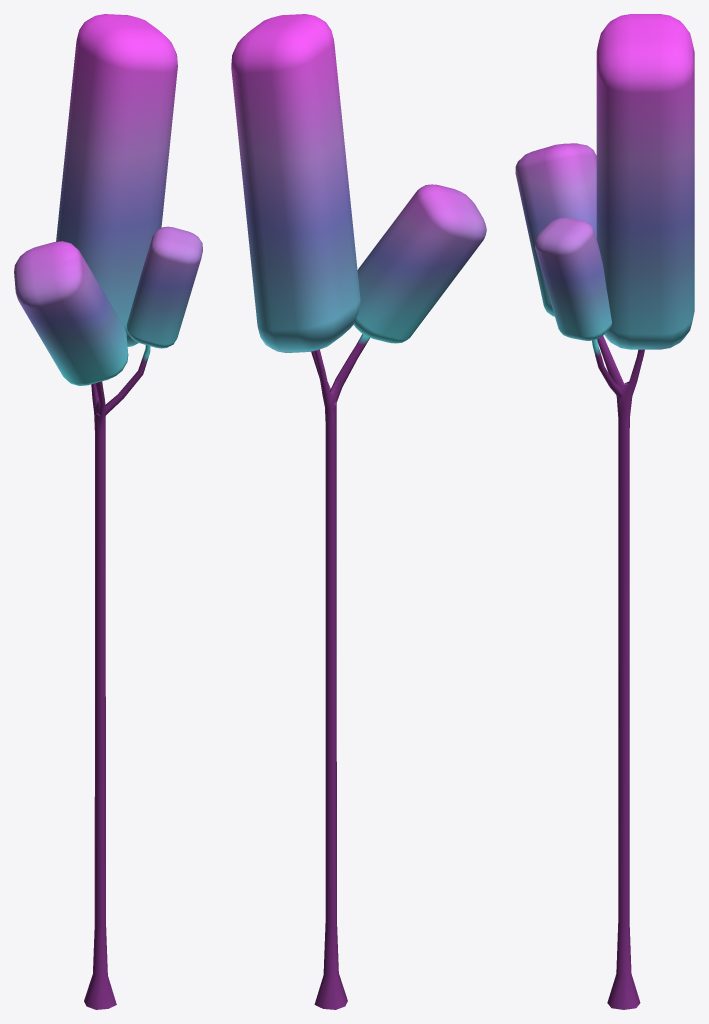
File: Tree09.fbx
3 renders of one model, left to right at view 1: azimuth 30°, elevation 25°; view 2: azimuth 150°, elevation 25°; view 3: azimuth 270°, elevation 25°, orthographic. The views are drawn at different scales.
Visible parts, largest first — view 1: Tree09; view 2: Tree09; view 3: Tree09.
Boxes of the visible parts, x1,y1,x2,y2 form: Tree09: [14, 14, 202, 1009]; Tree09: [231, 14, 486, 1009]; Tree09: [515, 14, 694, 1009].
Bounding box in the file's own units: 1198 × 5760 × 937.
